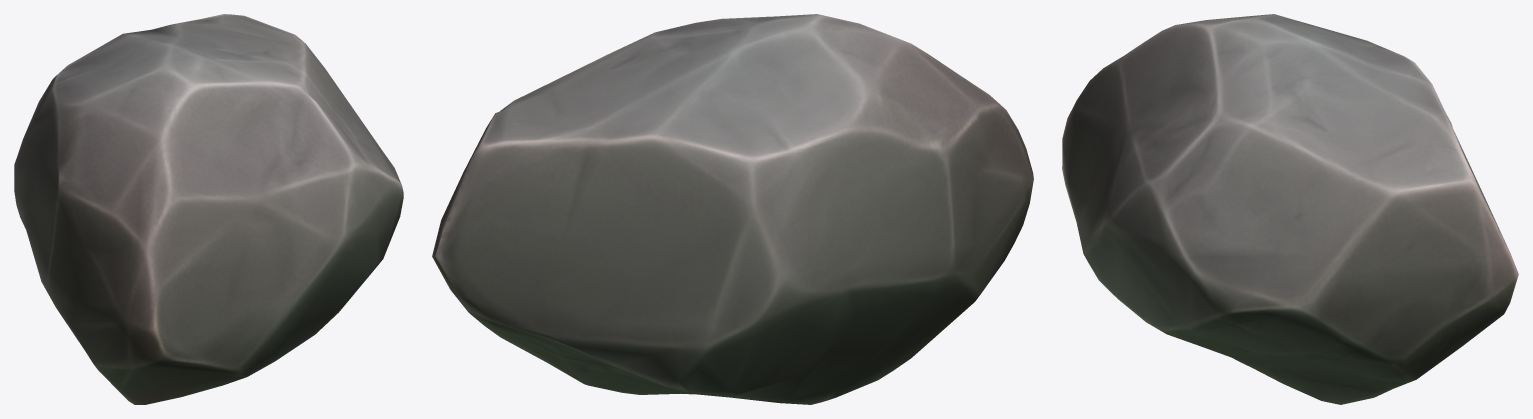
Rendered from Rock 3.fbx.
The picture shows the model from 3 angles, left to right: view 1: azimuth 30°, elevation 25°; view 2: azimuth 150°, elevation 25°; view 3: azimuth 270°, elevation 25°; orthographic projection. The views are drawn at different scales.
Parts seen in each view (by area): view 1: rock 3; view 2: rock 3; view 3: rock 3.
Boxes of the visible parts, left/top/right/bottom form: rock 3: left=14, top=14, right=403, bottom=404; rock 3: left=432, top=14, right=1033, bottom=404; rock 3: left=1062, top=14, right=1518, bottom=404.
Size of the model in its own units: 1.67 by 1.42 by 1.78.
Materials: 1 (1 with a texture image).
